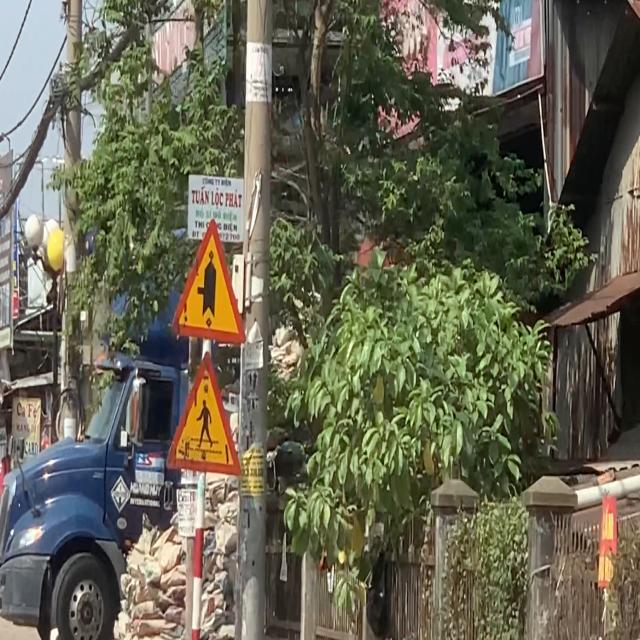Giao voi duong khong uu tien: (170, 217, 247, 345)
Nguoi di bo cat ngang: (164, 350, 242, 477)
